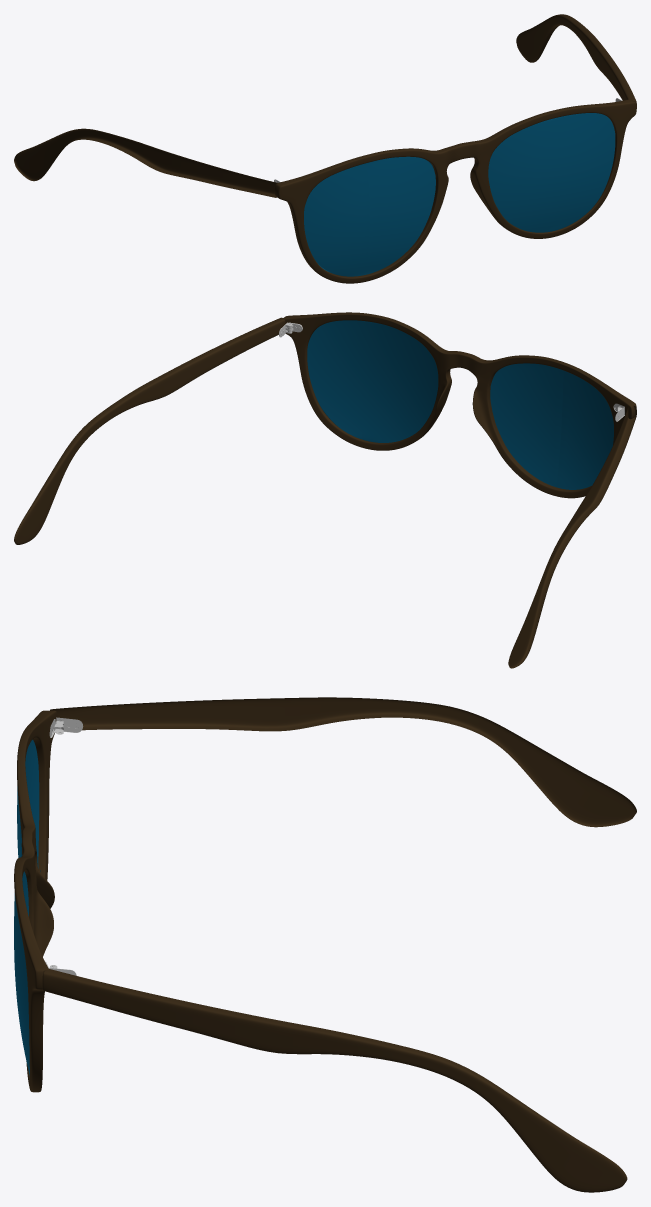
Rendered from erika-classic-raybans-blue-lenses.glb.
3 views of the same model, one above another, from view 1: azimuth 30°, elevation 25°; view 2: azimuth 150°, elevation 25°; view 3: azimuth 270°, elevation 25° (orthographic). The views are drawn at different scales.
Parts seen in each view (by area): view 1: Object009; view 2: Object009; view 3: Object009.
Part boxes in pixels (bbox=[...]): Object009: bbox=[14, 14, 636, 283]; Object009: bbox=[14, 312, 636, 668]; Object009: bbox=[14, 697, 636, 1192].
Size of the model in its own units: 0.1657 by 0.041 by 0.1182.
